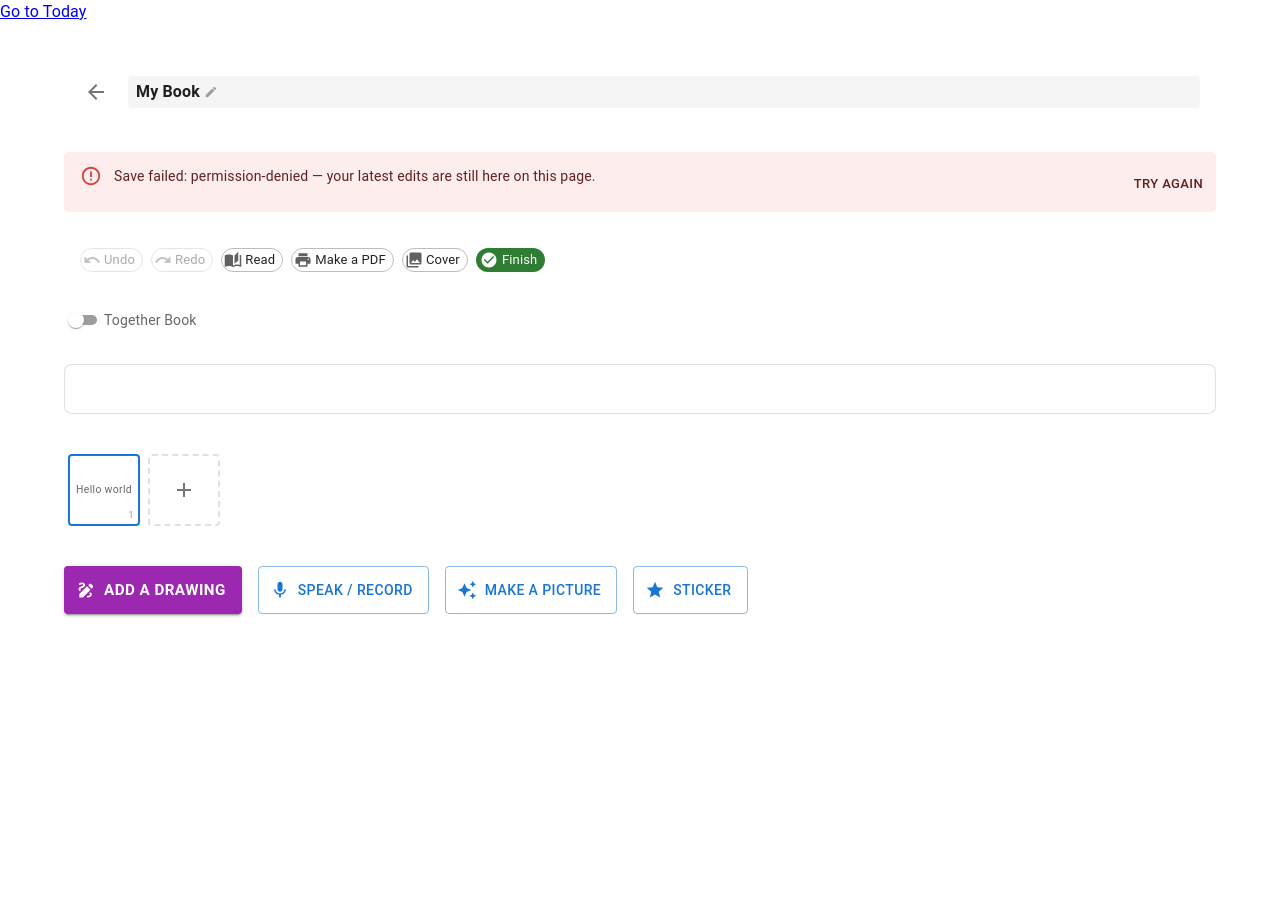
Test: BookEditorPage — departures while a save has failed (UX-473) › holds the Back arrow and keeps the editor on screen
Click the button named "My Books" at (96, 92), box [72,68,120,116]
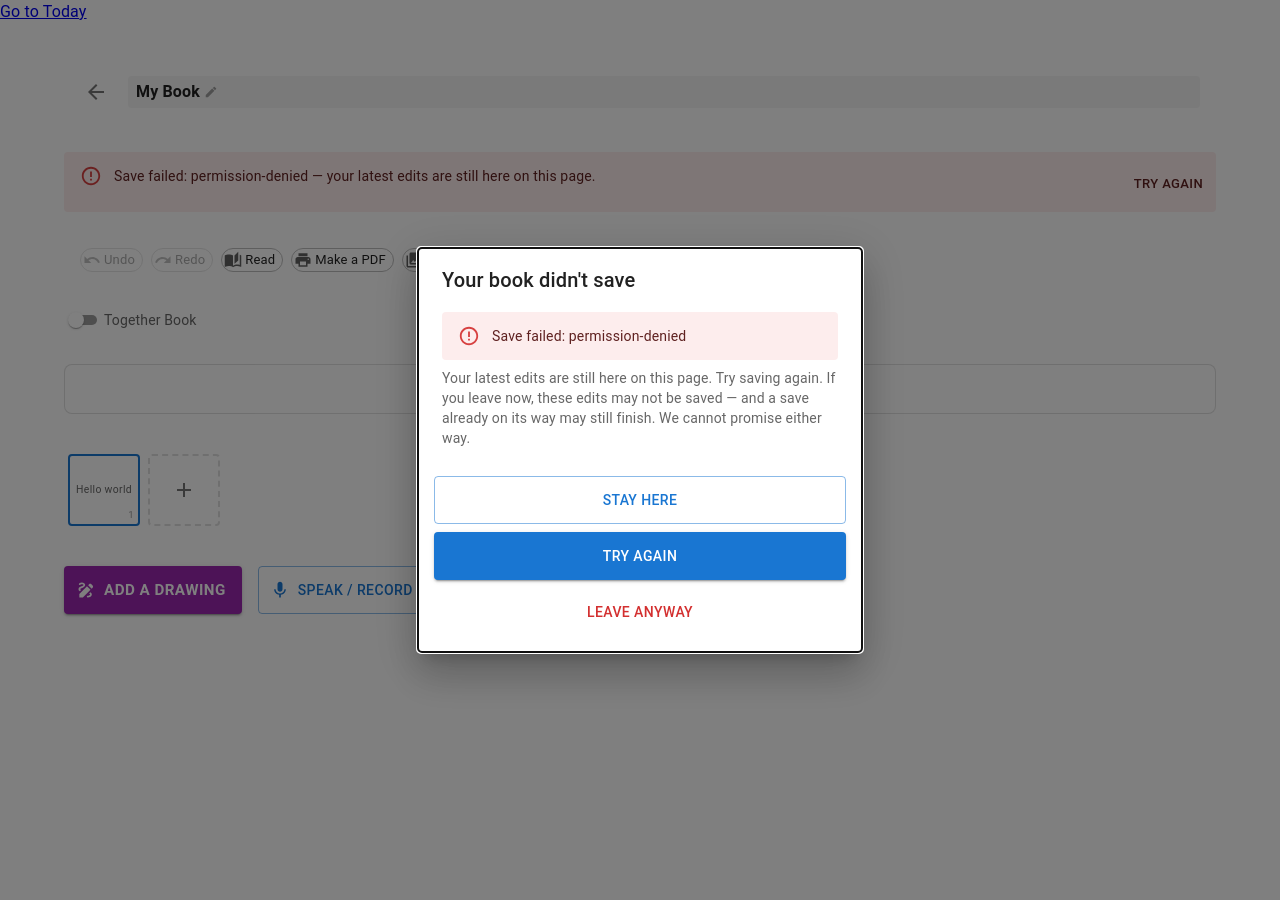
Expected: the heading "My Book" is shown, [128,76,1200,108]
Expected: the heading "Your book didn't save" is shown, [442,268,635,292]
